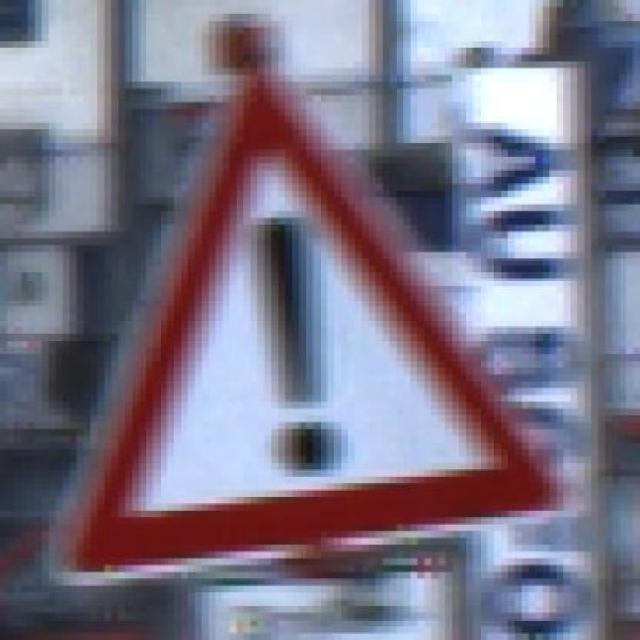Attention Please-: (48, 67, 584, 578)
